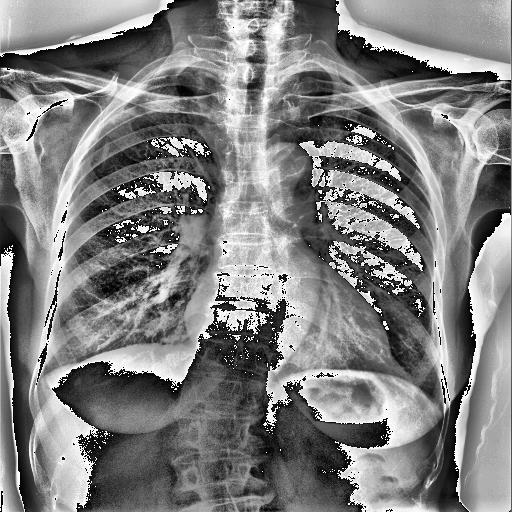0- Aortic enlargement: (266, 140, 316, 234), (258, 145, 316, 205), (256, 144, 316, 200)
11- Pleural thickening: (98, 67, 159, 129), (98, 78, 147, 128)
13- Pulmonary fibrosis: (188, 146, 214, 190), (100, 140, 113, 172), (100, 138, 110, 169)
3- Cardiomegaly: (184, 292, 391, 370)
7- Lung Opacity: (102, 139, 110, 169)
